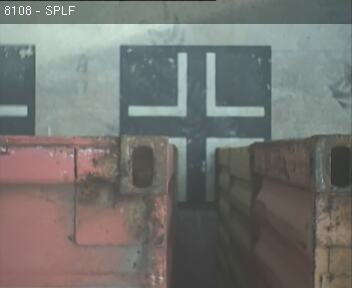groundmarker_1: (127, 51, 265, 116), (168, 137, 265, 201)
